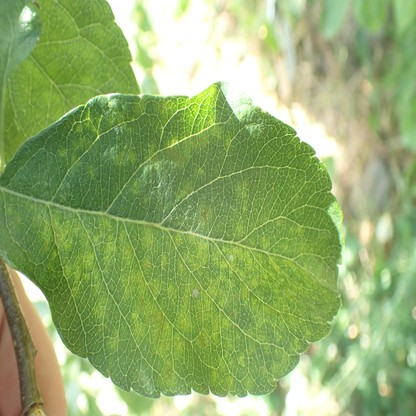scab: (33, 205, 338, 391), (145, 123, 221, 163), (71, 116, 97, 168), (109, 147, 135, 166), (181, 181, 194, 198), (224, 135, 231, 148), (59, 148, 65, 157)
